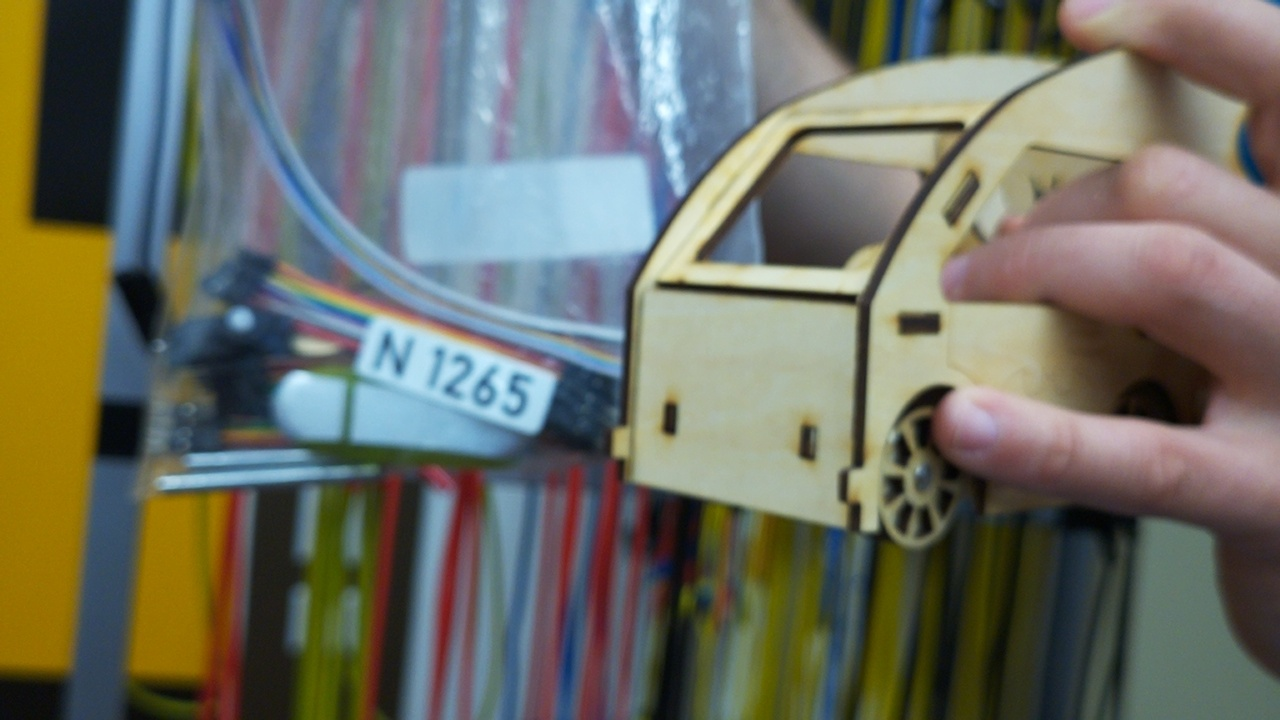license_plate: (351, 314, 562, 438)
